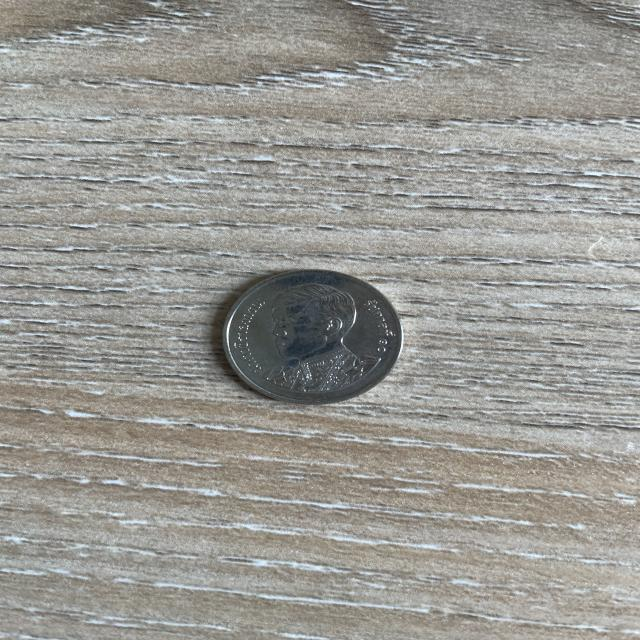1 Bath: (190, 262, 429, 419)
